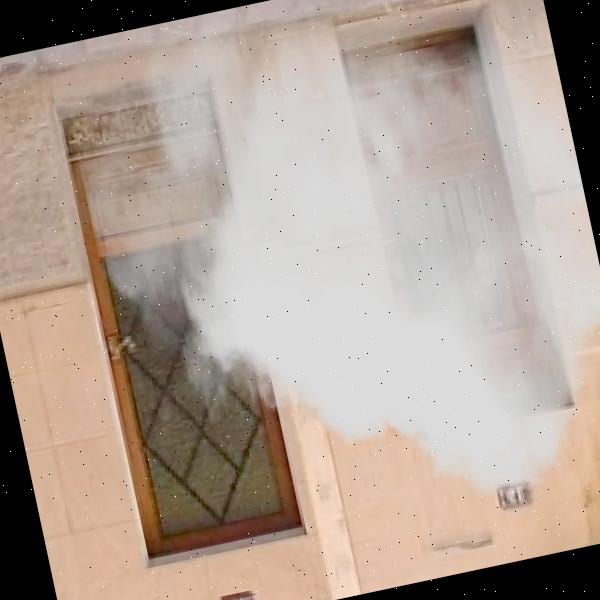smoke: (55, 0, 600, 564)
